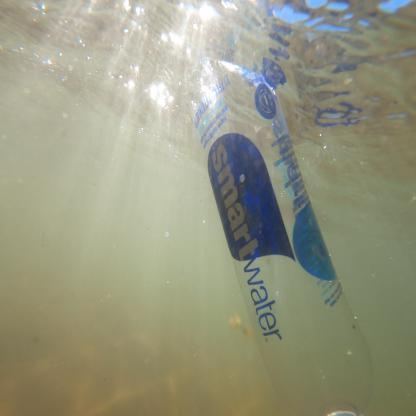Rác: (160, 31, 371, 415)
